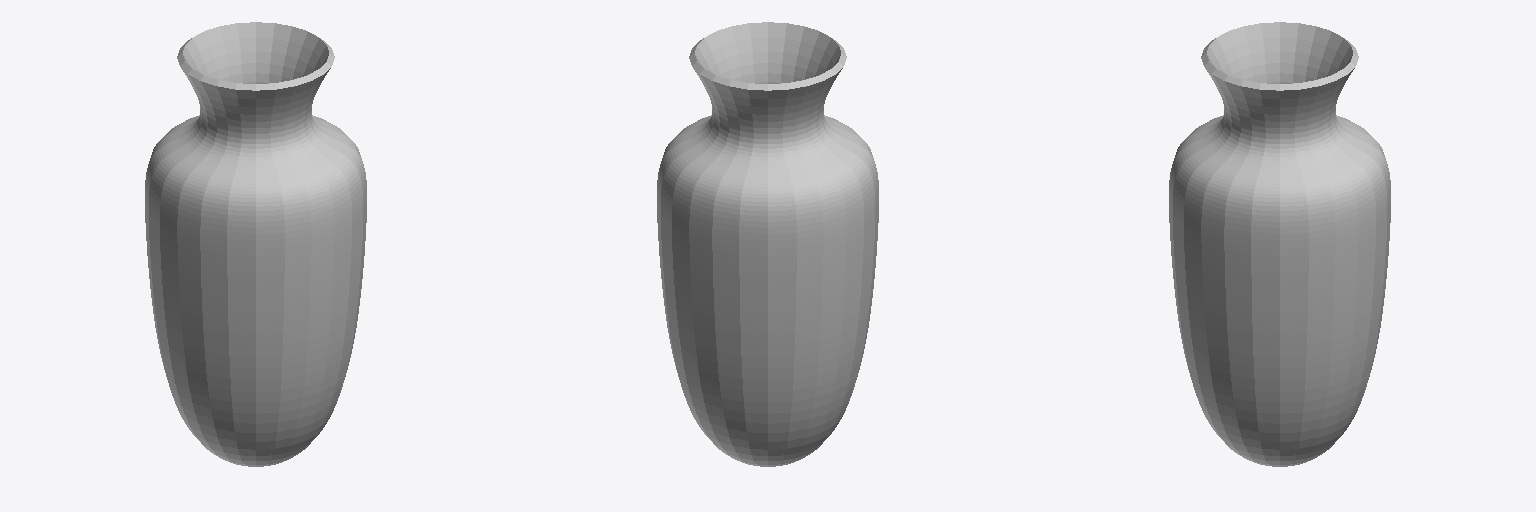
File: front_vase.obj
The picture shows the model from 3 angles: view 1: azimuth 30°, elevation 25°; view 2: azimuth 150°, elevation 25°; view 3: azimuth 270°, elevation 25°; orthographic projection.
Parts seen in each view (by area): view 1: vase2_vase2; view 2: vase2_vase2; view 3: vase2_vase2.
Boxes of the visible parts, box(x1,y1,x2,y2) form: vase2_vase2: box(145, 22, 366, 466); vase2_vase2: box(657, 22, 878, 466); vase2_vase2: box(1169, 22, 1390, 466).
Bounding box in the file's own units: 5.23 × 10.52 × 5.23.